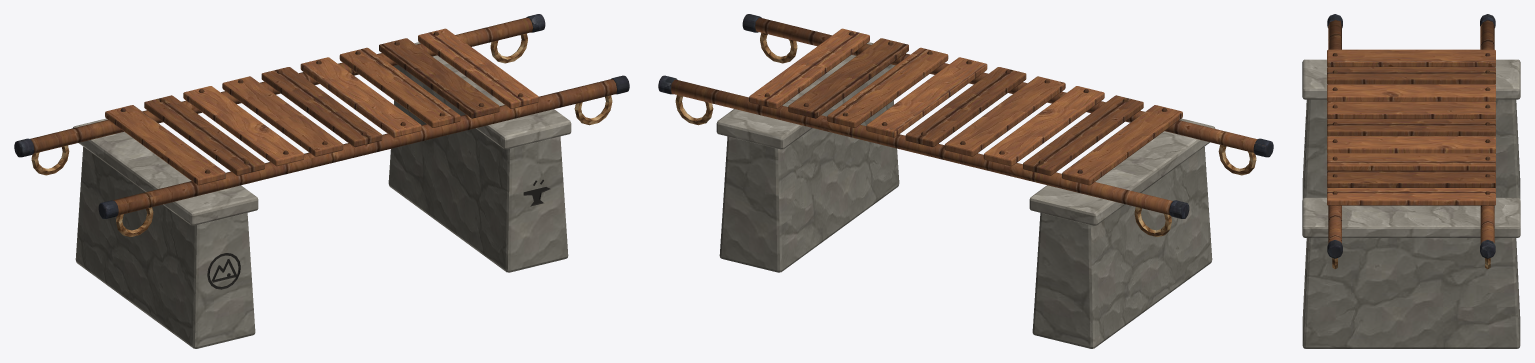
Rendered from qb_bier_trestles.glb.
3 views of the same model, side by side, from view 1: azimuth 30°, elevation 25°; view 2: azimuth 150°, elevation 25°; view 3: azimuth 270°, elevation 25° (orthographic). The views are drawn at different scales.
Parts seen in each view (by area): view 1: model; view 2: model; view 3: model.
Boxes of the visible parts, x1,y1,x2,y2 form: model: (14,14,629,348); model: (658,14,1273,348); model: (1302,14,1520,348).
Size of the model in its own units: 2.01 by 0.588 by 0.8.
Materials: 9 (8 with a texture image).
